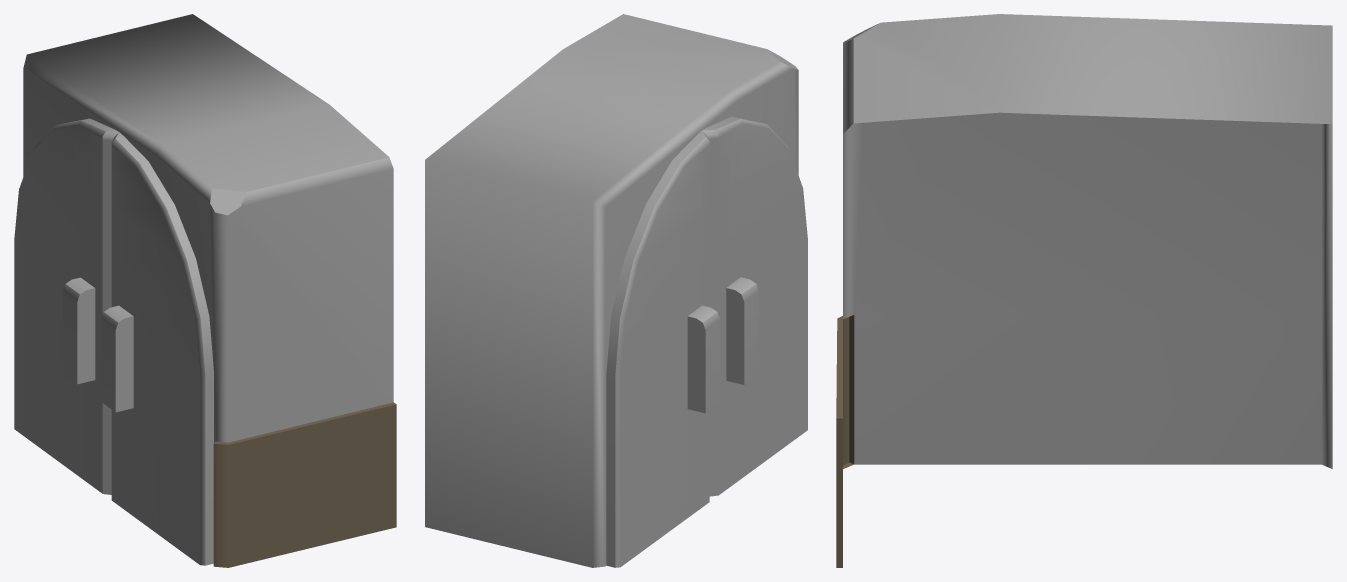
Rendered from SM_Fridge.fbx.
The picture shows the model from 3 angles, left to right: view 1: azimuth 30°, elevation 25°; view 2: azimuth 150°, elevation 25°; view 3: azimuth 270°, elevation 25°; orthographic projection. The views are drawn at different scales.
Visible parts, largest first — view 1: polySurface16; view 2: polySurface16; view 3: polySurface16.
Part boxes in pixels (x1,y1,x2,y2): polySurface16: [14, 14, 396, 567]; polySurface16: [425, 14, 807, 567]; polySurface16: [836, 14, 1332, 567].
Size of the model in its own units: 117 by 205 by 203.
